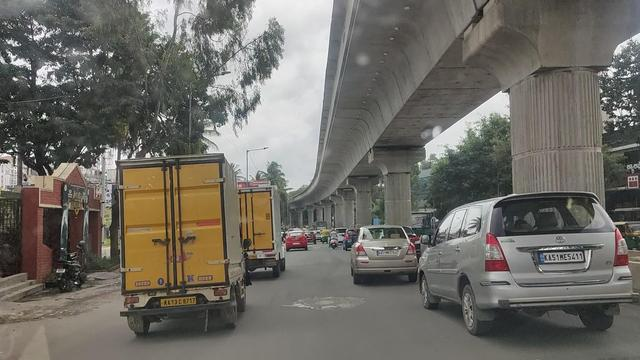HMV: (116, 159, 248, 325)
LMV: (421, 193, 622, 336), (349, 224, 414, 282), (288, 233, 307, 250)
RoadDamages: (287, 291, 368, 315)
